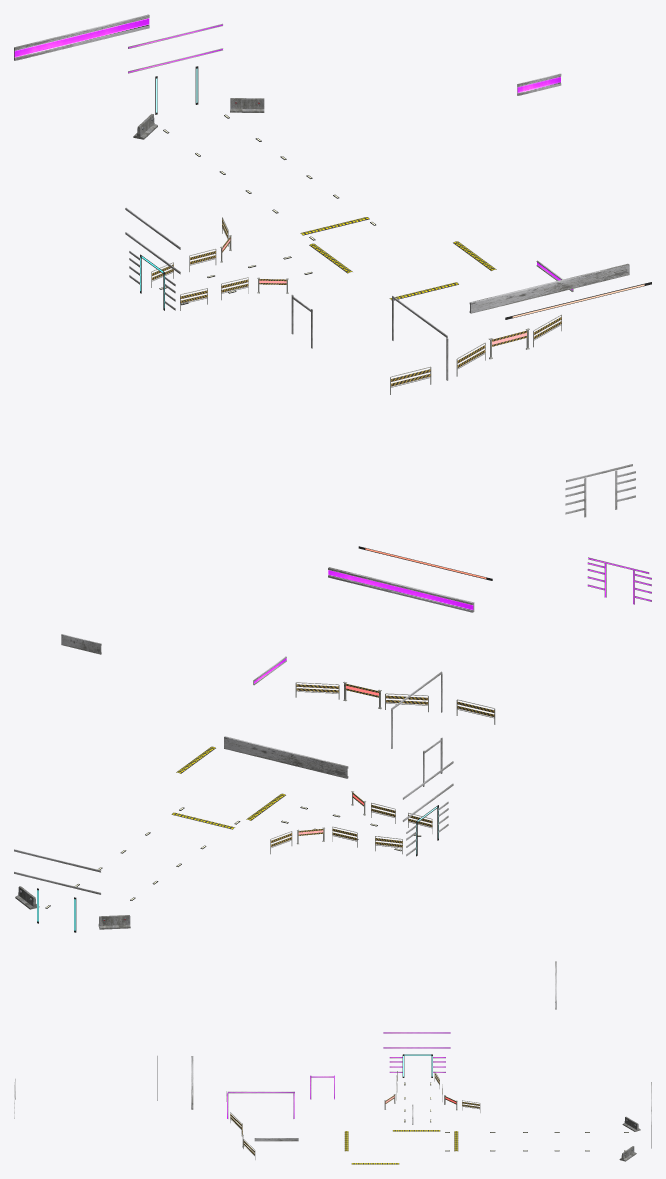
File: MKW_Breaker.fbx
3 views of the same model, one above another, from view 1: azimuth 30°, elevation 25°; view 2: azimuth 150°, elevation 25°; view 3: azimuth 270°, elevation 25° (orthographic). The views are drawn at different scales.
Parts seen in each view (by area): view 1: MKW_Breaker; view 2: MKW_Breaker; view 3: MKW_Breaker.
Boxes of the visible parts, x1,y1,x2,y2 form: MKW_Breaker: (14,14,651,517); MKW_Breaker: (14,546,651,932); MKW_Breaker: (14,961,651,1164).
Bounding box in the file's own units: 3181 × 1258 × 6673.
